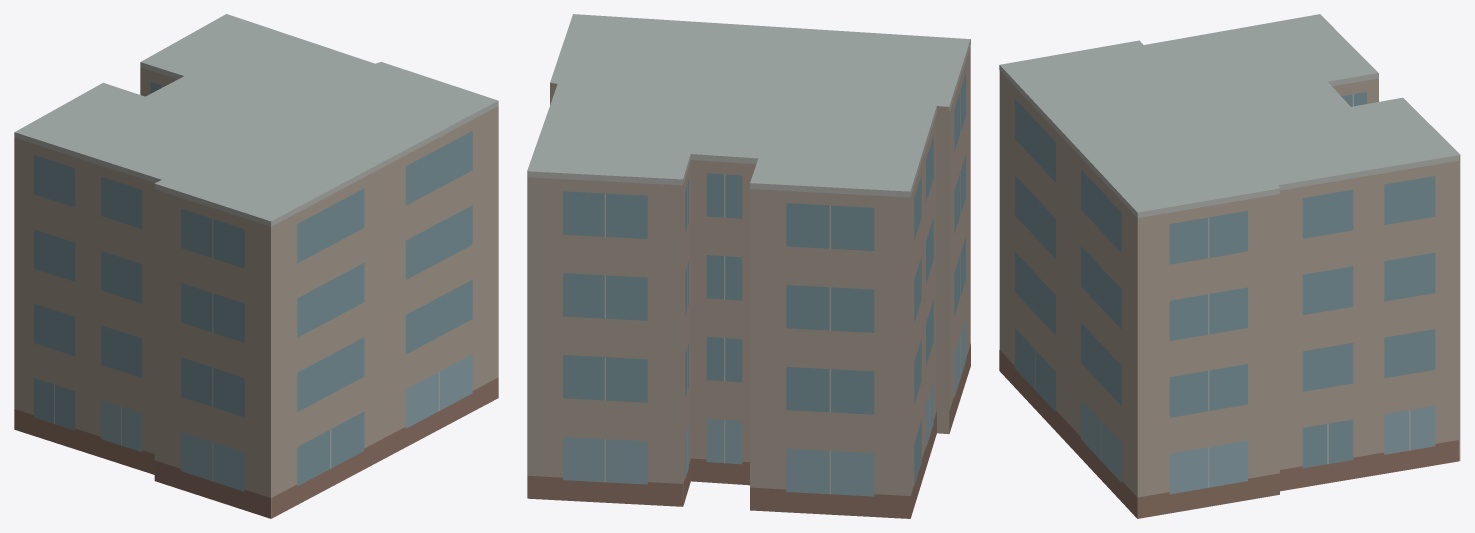
File: survey-upis-32780356.glb
3 renders of one model, left to right at view 1: azimuth 30°, elevation 25°; view 2: azimuth 150°, elevation 25°; view 3: azimuth 270°, elevation 25°, orthographic. The views are drawn at different scales.
Visible parts, largest first — view 1: survey-upis-32780356.tmp; view 2: survey-upis-32780356.tmp; view 3: survey-upis-32780356.tmp.
Part boxes in pixels (x1=…): survey-upis-32780356.tmp: x1=14, y1=14, x2=498, y2=518; survey-upis-32780356.tmp: x1=527, y1=14, x2=970, y2=518; survey-upis-32780356.tmp: x1=999, y1=14, x2=1460, y2=518.
Bounding box in the file's own units: 18.79 × 13.5 × 18.42.
